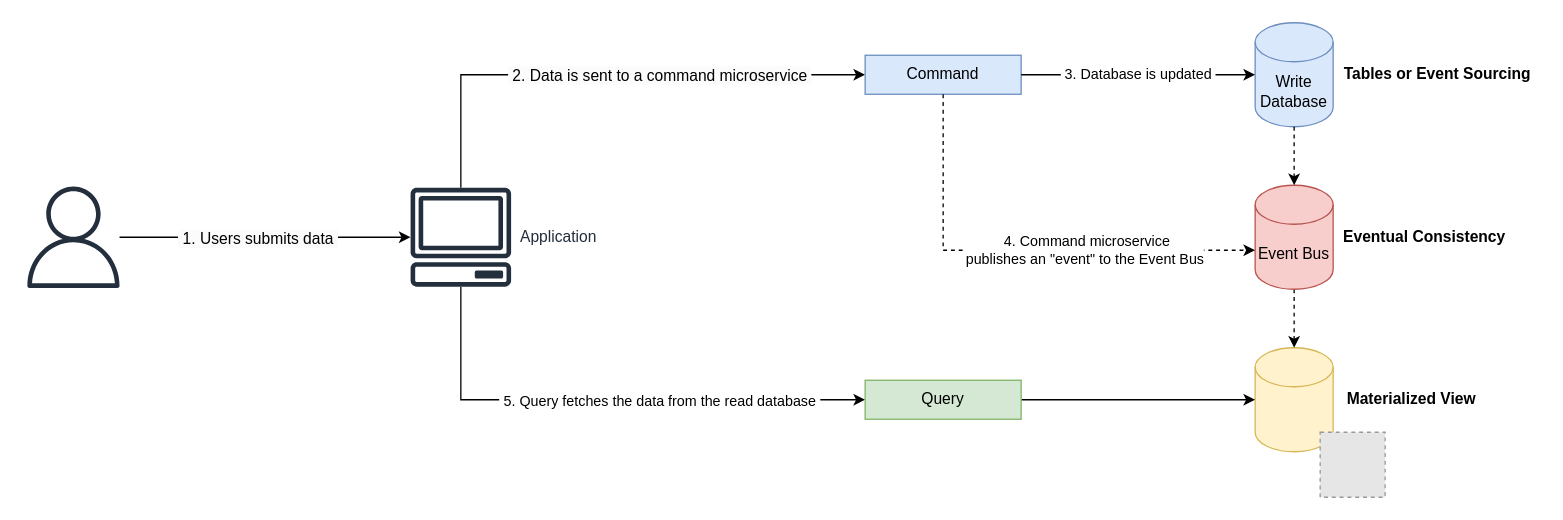
Some shapes in this 1563 by 520 pixel diagram are drawn without their labels. Grey dashed boxes stand in for pictures. The shapes that lost their labels are listed below. From the top down, each one's centre as x and y in pixels, then its label:
At (73,236): "User".
At (1293,399): "Read Database".
